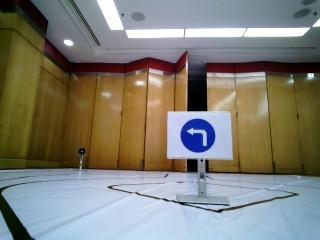left: (170, 113, 239, 156)
